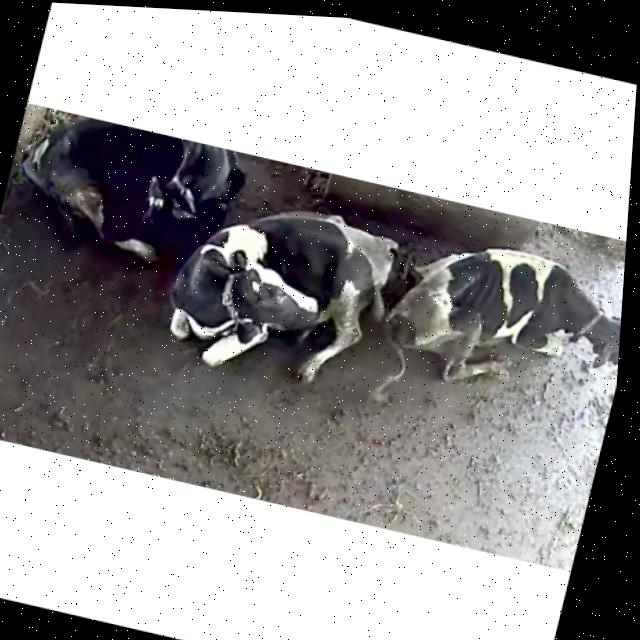lay: (145, 178, 409, 421), (364, 212, 627, 451), (0, 100, 254, 274)
